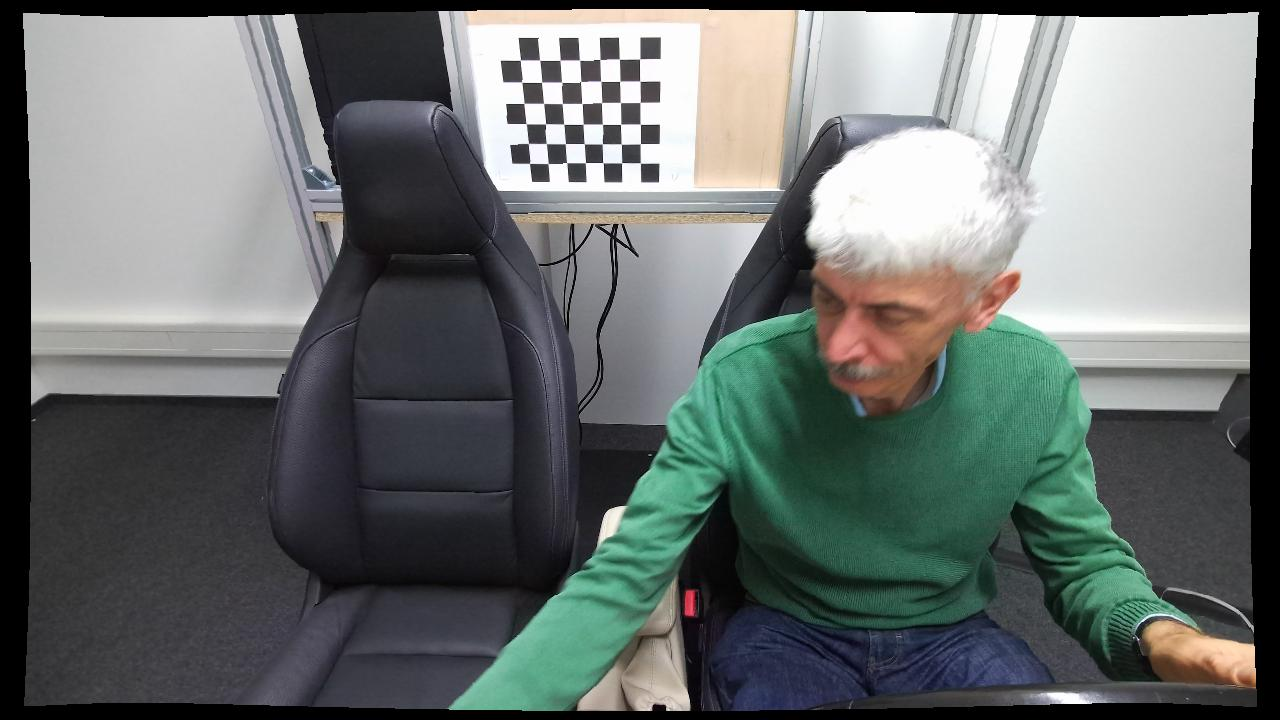Distracted: (442, 109, 1166, 713)
